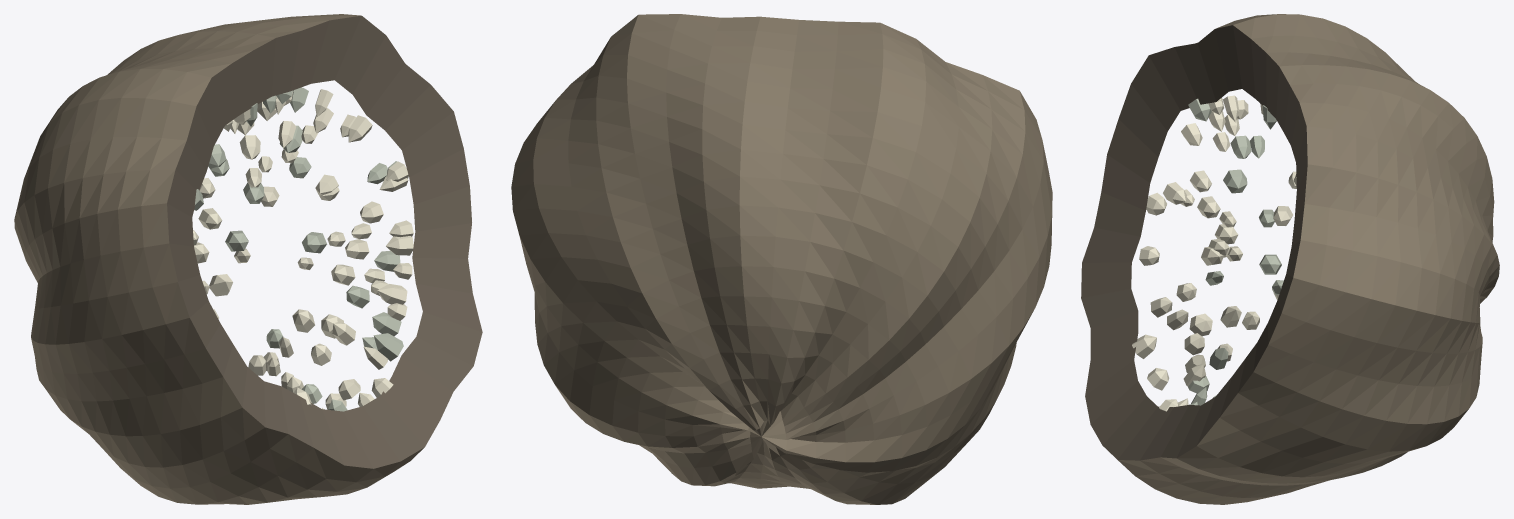
3 renders of one model, left to right at view 1: azimuth 30°, elevation 25°; view 2: azimuth 150°, elevation 25°; view 3: azimuth 270°, elevation 25°, orthographic. The views are drawn at different scales.
Visible parts, largest first — view 1: retained_rounded_lumpy_enclosing_rind, finite_display_cut_rim, small_unequal_inward_quartz_crystals.001, small_unequal_inward_quartz_crystals; view 2: retained_rounded_lumpy_enclosing_rind; view 3: retained_rounded_lumpy_enclosing_rind, finite_display_cut_rim, small_unequal_inward_quartz_crystals.001, small_unequal_inward_quartz_crystals.
Boxes of the visible parts, x1,y1,x2,y2 form: retained_rounded_lumpy_enclosing_rind: (14, 14, 424, 504); finite_display_cut_rim: (167, 15, 482, 468); small_unequal_inward_quartz_crystals.001: (193, 89, 413, 409); small_unequal_inward_quartz_crystals: (194, 87, 403, 411); retained_rounded_lumpy_enclosing_rind: (511, 14, 1052, 504); retained_rounded_lumpy_enclosing_rind: (1111, 14, 1499, 504); finite_display_cut_rim: (1081, 25, 1307, 460); small_unequal_inward_quartz_crystals.001: (1132, 95, 1296, 411); small_unequal_inward_quartz_crystals: (1188, 98, 1283, 405).
Size of the model in its own units: 0.1571 by 0.1537 by 0.1363.
